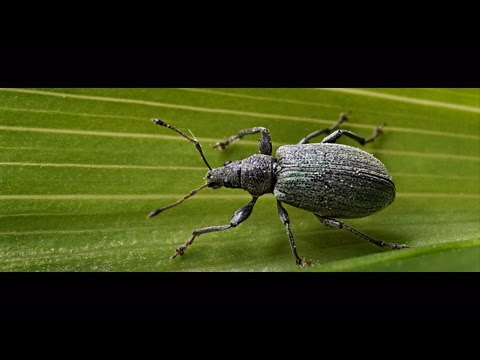dolgonosik: (151, 114, 417, 262)
